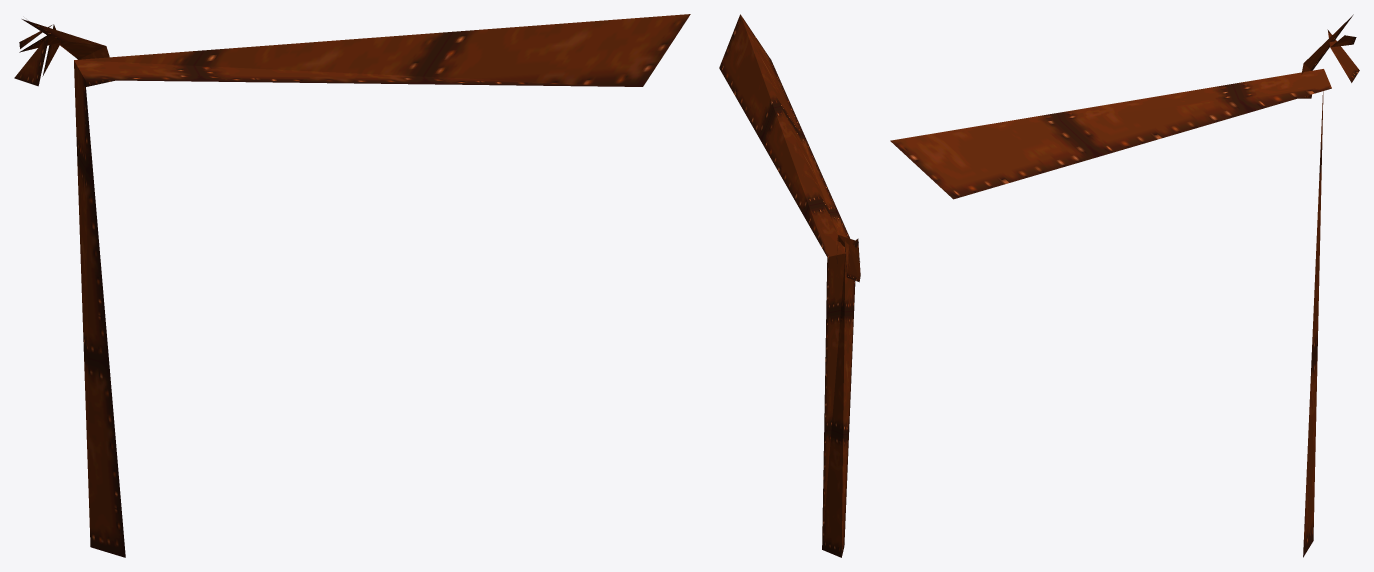
Rendered from Stütze_WinkelGedreht_891.glb.
3 renders of one model, left to right at view 1: azimuth 30°, elevation 25°; view 2: azimuth 150°, elevation 25°; view 3: azimuth 270°, elevation 25°, orthographic. The views are drawn at different scales.
Parts seen in each view (by area): view 1: pPlaneShape86, pPlaneShape88, pPlaneShape87; view 2: pPlaneShape86, pPlaneShape88; view 3: pPlaneShape86, pPlaneShape88.
Boxes of the visible parts, x1,y1,x2,y2 form: pPlaneShape86: (74, 14, 690, 557); pPlaneShape88: (14, 24, 61, 86); pPlaneShape87: (22, 19, 114, 86); pPlaneShape86: (719, 14, 855, 557); pPlaneShape88: (844, 238, 860, 282); pPlaneShape86: (890, 69, 1331, 557); pPlaneShape88: (1327, 29, 1359, 82).
Bounding box in the file's own units: 0.5577 × 0.7416 × 0.547.
Materials: 3 (3 with a texture image).
